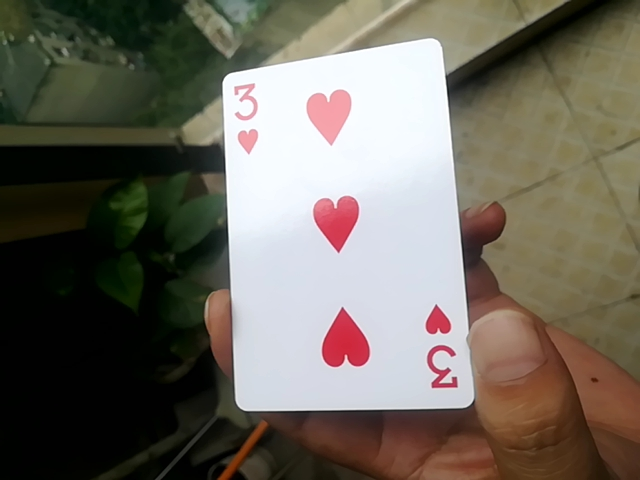hx 3: (228, 48, 473, 411)
